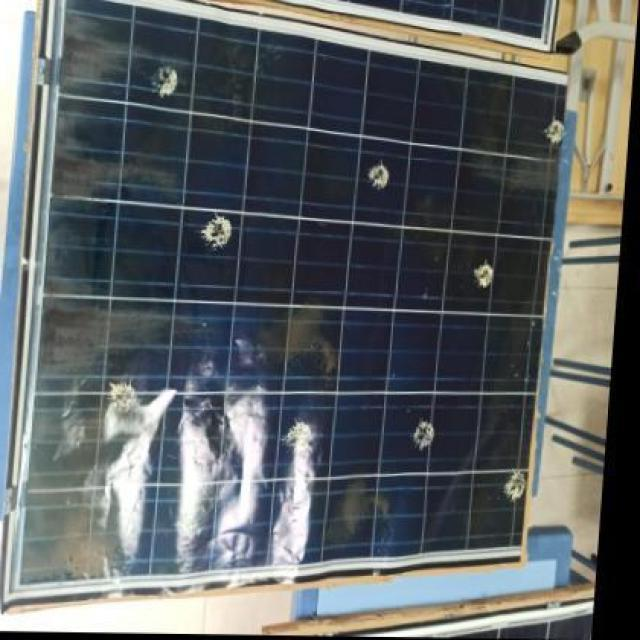soiled: (31, 14, 572, 584)
